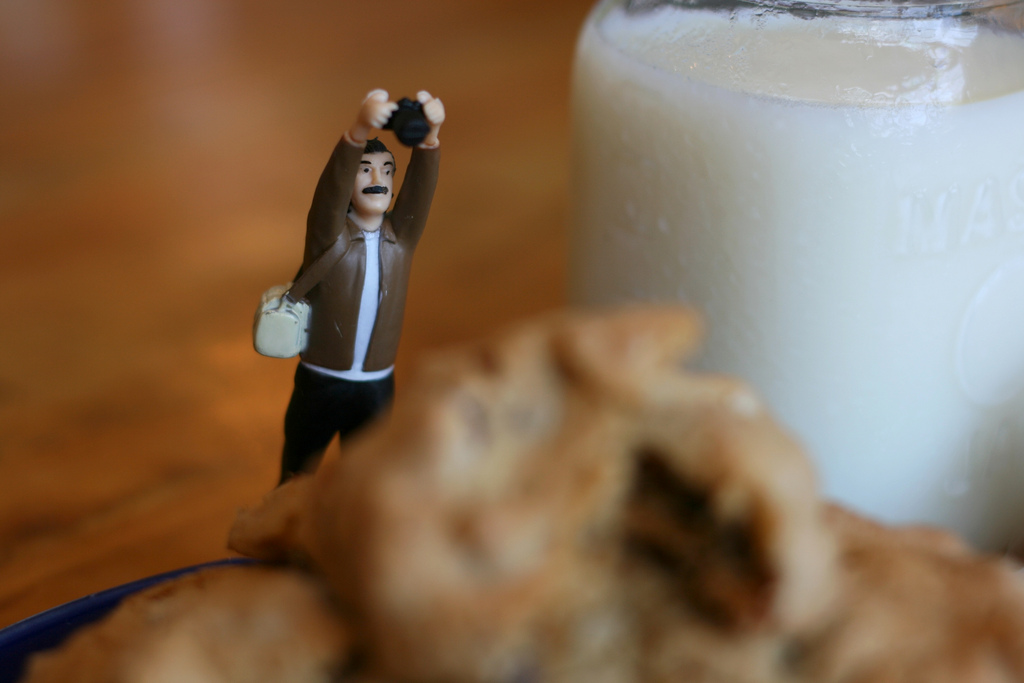glass of milk: (624, 25, 1019, 541)
